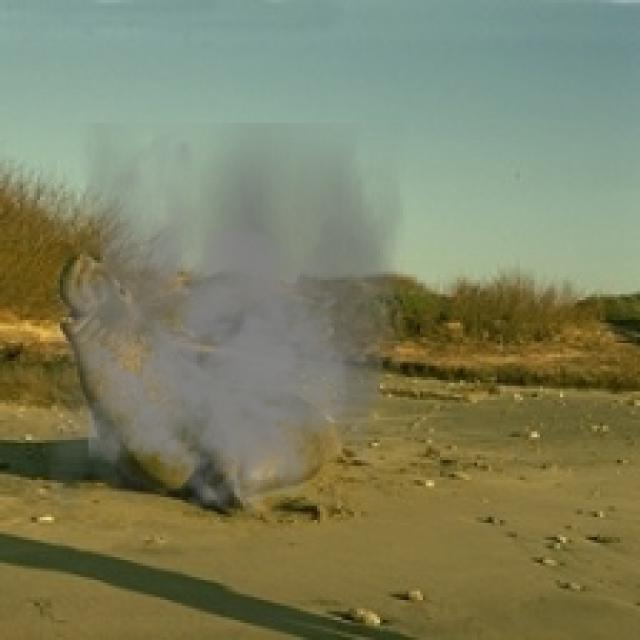Smoke: (48, 123, 406, 520)
